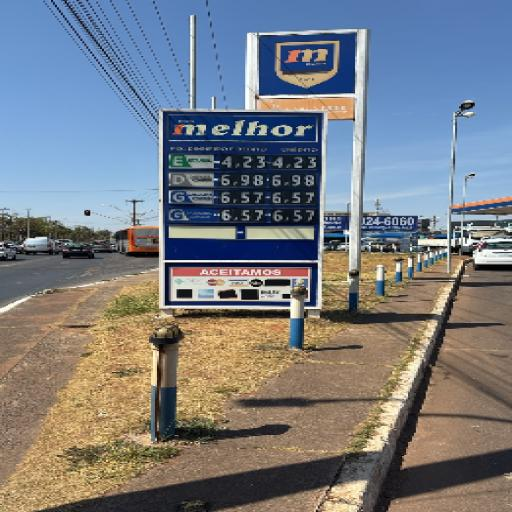ETANOL: (167, 154, 217, 169)
GASOLINA AD: (173, 210, 219, 222)
GASOLINA C: (170, 191, 216, 204)
S500: (169, 173, 214, 187)
placa: (162, 110, 321, 226)
preco: (220, 155, 266, 169), (222, 210, 266, 224), (220, 173, 266, 186), (222, 192, 266, 205)
